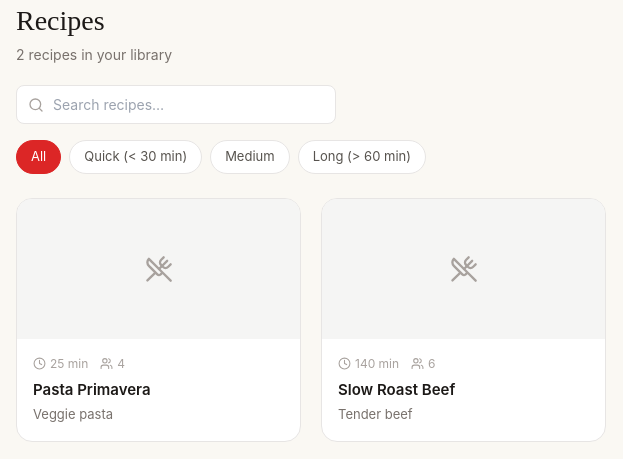
Test: filter tags work
expect the heading "Pasta Primavera" is shown: met, box [33,380,150,398]
Click the button "Quick (< 30 min)": (136, 157) [69,140,202,174]
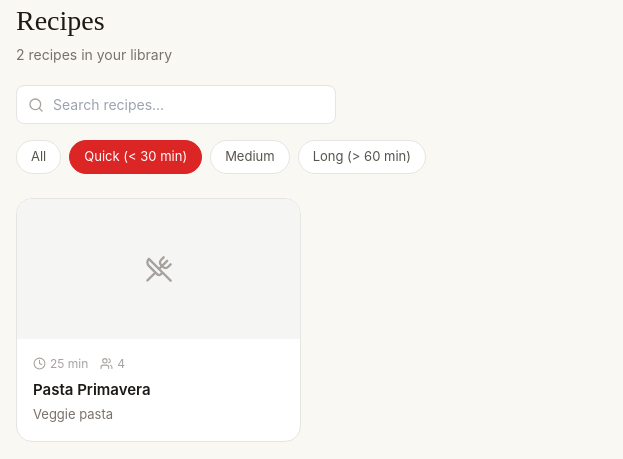
expect the heading "Pasta Primavera" is shown: met, box [33,380,150,398]
expect the link "Slow Roast Beef" is gone: met
